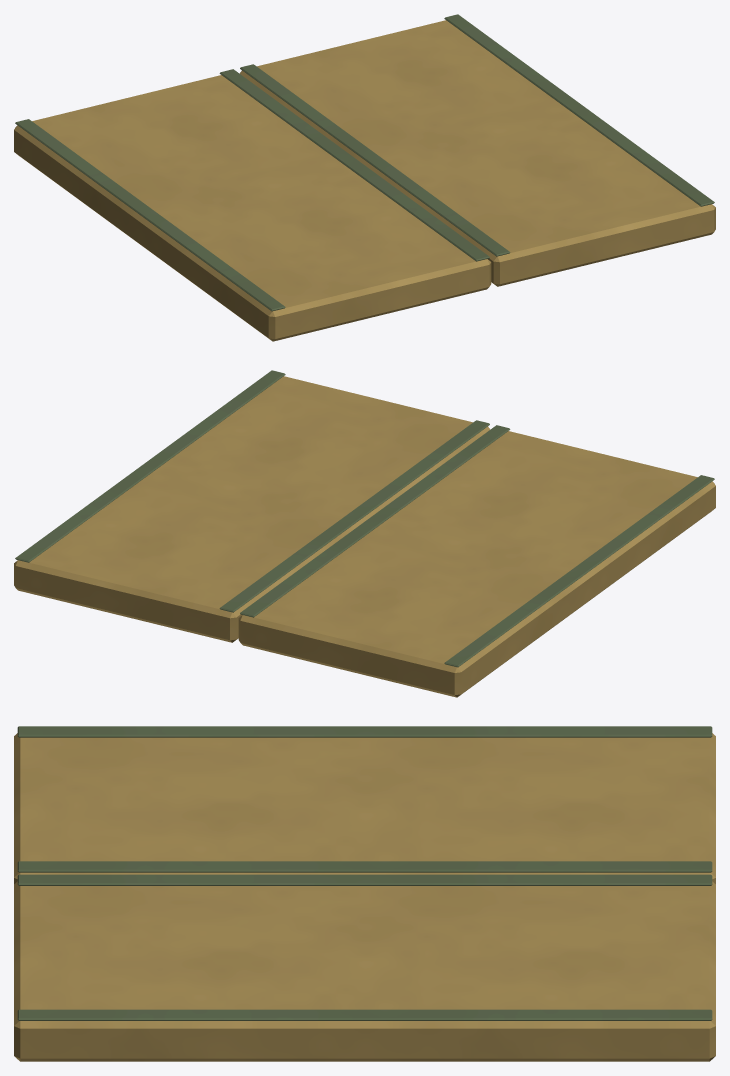
The model's file is AR_Floor_Tatami_2m.glb.
The picture shows the model from 3 angles, top to bottom: view 1: azimuth 30°, elevation 25°; view 2: azimuth 150°, elevation 25°; view 3: azimuth 270°, elevation 25°; orthographic projection. The views are drawn at different scales.
Visible parts, largest first — view 1: AR_Floor_Tatami_2m; view 2: AR_Floor_Tatami_2m; view 3: AR_Floor_Tatami_2m.
Part boxes in pixels (box(x1,y1,x2,y2)): AR_Floor_Tatami_2m: box(14, 14, 715, 341); AR_Floor_Tatami_2m: box(14, 370, 715, 697); AR_Floor_Tatami_2m: box(14, 726, 715, 1061).
Bounding box in the file's own units: 1.99 × 0.1405 × 2.
Materials: 2 (2 with a texture image).
